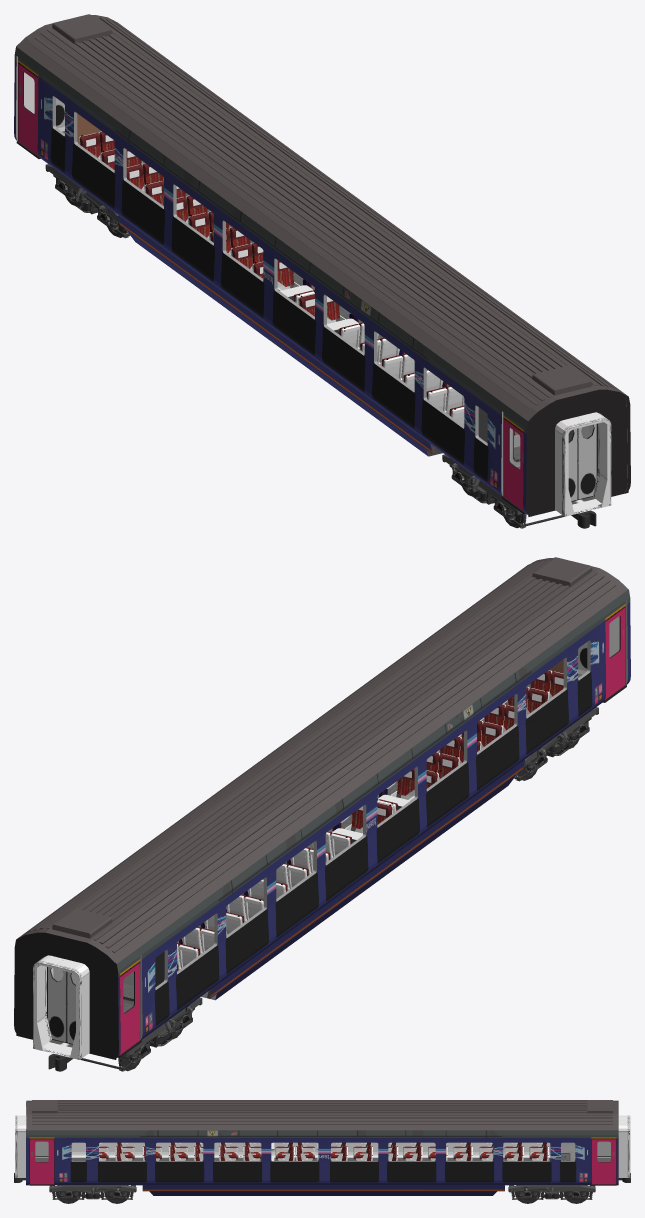
Rendered from srt_brmark3_firstgwr.obj.
3 renders of one model, top to bottom at view 1: azimuth 30°, elevation 25°; view 2: azimuth 150°, elevation 25°; view 3: azimuth 270°, elevation 25°, orthographic. The views are drawn at different scales.
Parts seen in each view (by area): view 1: sidenew, jibung, jibungbong, chairs, back, sideunder, DT71, mak, backdoor, door_RF, door_RB, wall; view 2: sidenew, jibung, jibungbong, chairs, back, sideunder, DT71, mak, backdoor, door_RB, door_RF, wall; view 3: sidenew, jibungbong, jibung, chairs, sideunder, DT71, inside, mak, door_LF, door_LB, badak, wall (+2 smaller).
Part boxes in pixels (<box>): sidenew: <box>14,22,630,516</box>; jibung: <box>16,14,626,420</box>; jibungbong: <box>28,17,616,409</box>; chairs: <box>78,131,514,435</box>; back: <box>528,389,628,516</box>; sideunder: <box>117,215,435,456</box>; DT71: <box>45,164,596,528</box>; mak: <box>555,412,611,516</box>; backdoor: <box>56,98,596,500</box>; door_RF: <box>503,412,524,511</box>; door_RB: <box>18,57,38,156</box>; wall: <box>77,113,573,466</box>; sidenew: <box>14,565,630,1057</box>; jibung: <box>17,557,628,963</box>; jibungbong: <box>28,560,616,952</box>; chairs: <box>177,670,563,971</box>; back: <box>16,932,116,1059</box>; sideunder: <box>207,759,524,999</box>; DT71: <box>48,707,598,1071</box>; mak: <box>33,955,89,1059</box>; backdoor: <box>48,642,587,1043</box>; door_RB: <box>119,956,140,1055</box>; door_RF: <box>605,601,625,699</box>; wall: <box>53,659,563,1006</box>; sidenew: <box>26,1102,618,1185</box>; jibungbong: <box>32,1100,612,1124</box>; jibung: <box>26,1100,618,1130</box>; chairs: <box>99,1142,548,1160</box>; sideunder: <box>142,1185,504,1195</box>; DT71: <box>14,1173,630,1203</box>; inside: <box>26,1103,610,1157</box>; mak: <box>15,1115,630,1177</box>; door_LF: <box>29,1135,54,1184</box>; door_LB: <box>591,1135,616,1184</box>; badak: <box>35,1158,610,1161</box>; wall: <box>561,1142,575,1160</box>.
Bounding box in the file's own units: 2.74 × 3.91 × 24.1.
20 materials, 20 textured.
